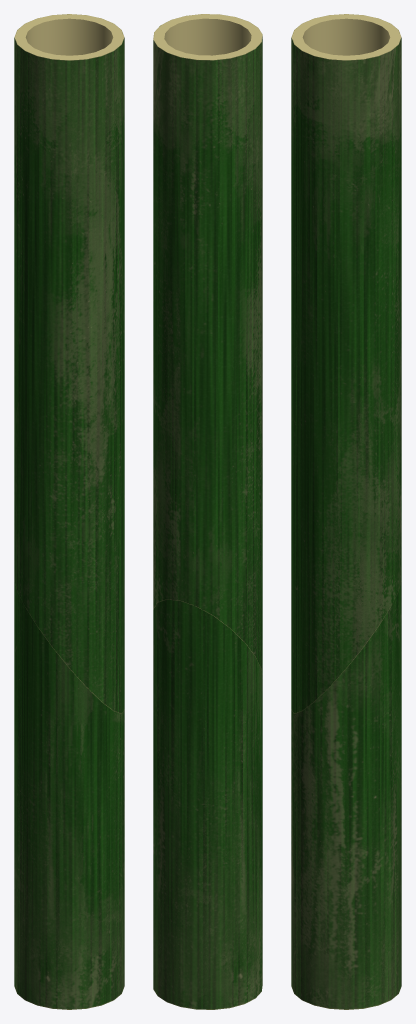
The model's file is bamboo03.fbx.
The picture shows the model from 3 angles, left to right: view 1: azimuth 90°, elevation 25°; view 2: azimuth 150°, elevation 25°; view 3: azimuth 270°, elevation 25°; orthographic projection.
Parts seen in each view (by area): view 1: bamboo03_up, bamboo03_down; view 2: bamboo03_up, bamboo03_down; view 3: bamboo03_up, bamboo03_down.
Part boxes in pixels (x1=…): bamboo03_up: x1=14, y1=14, x2=124, y2=713; bamboo03_down: x1=14, y1=581, x2=124, y2=1009; bamboo03_up: x1=153, y1=14, x2=262, y2=677; bamboo03_down: x1=153, y1=599, x2=262, y2=1009; bamboo03_up: x1=291, y1=14, x2=401, y2=713; bamboo03_down: x1=291, y1=581, x2=401, y2=1009.
Bounding box in the file's own units: 23.1 × 220 × 23.1.
